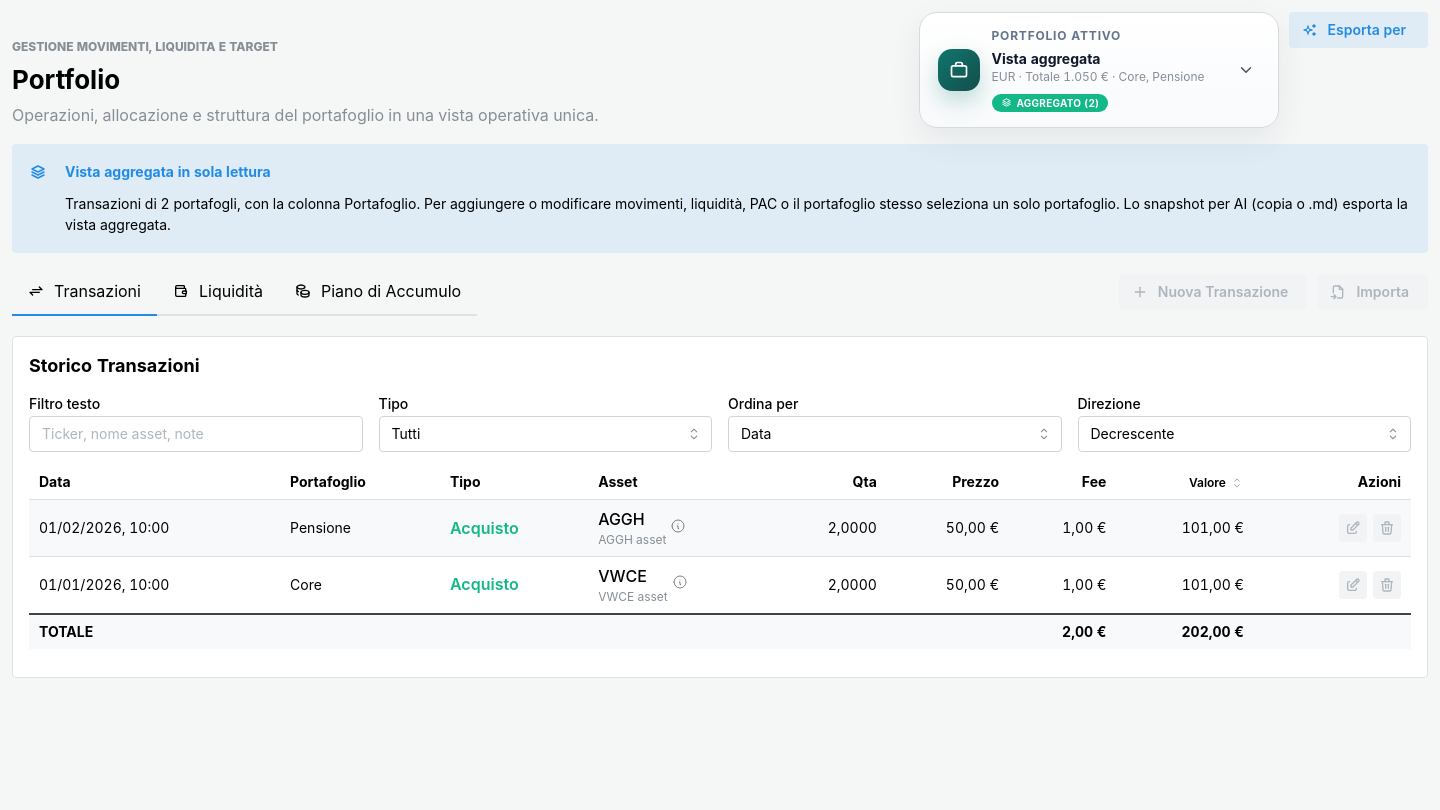
Test: PortfolioPage in the aggregate view (read-only) › replaces the cash and PAC tabs with a notice
Check: the text "VWCE" is shown, box top-left (598, 566), bottom-right (647, 586)
Click the tab "Liquidità": (218, 292) top-left (157, 269), bottom-right (279, 316)
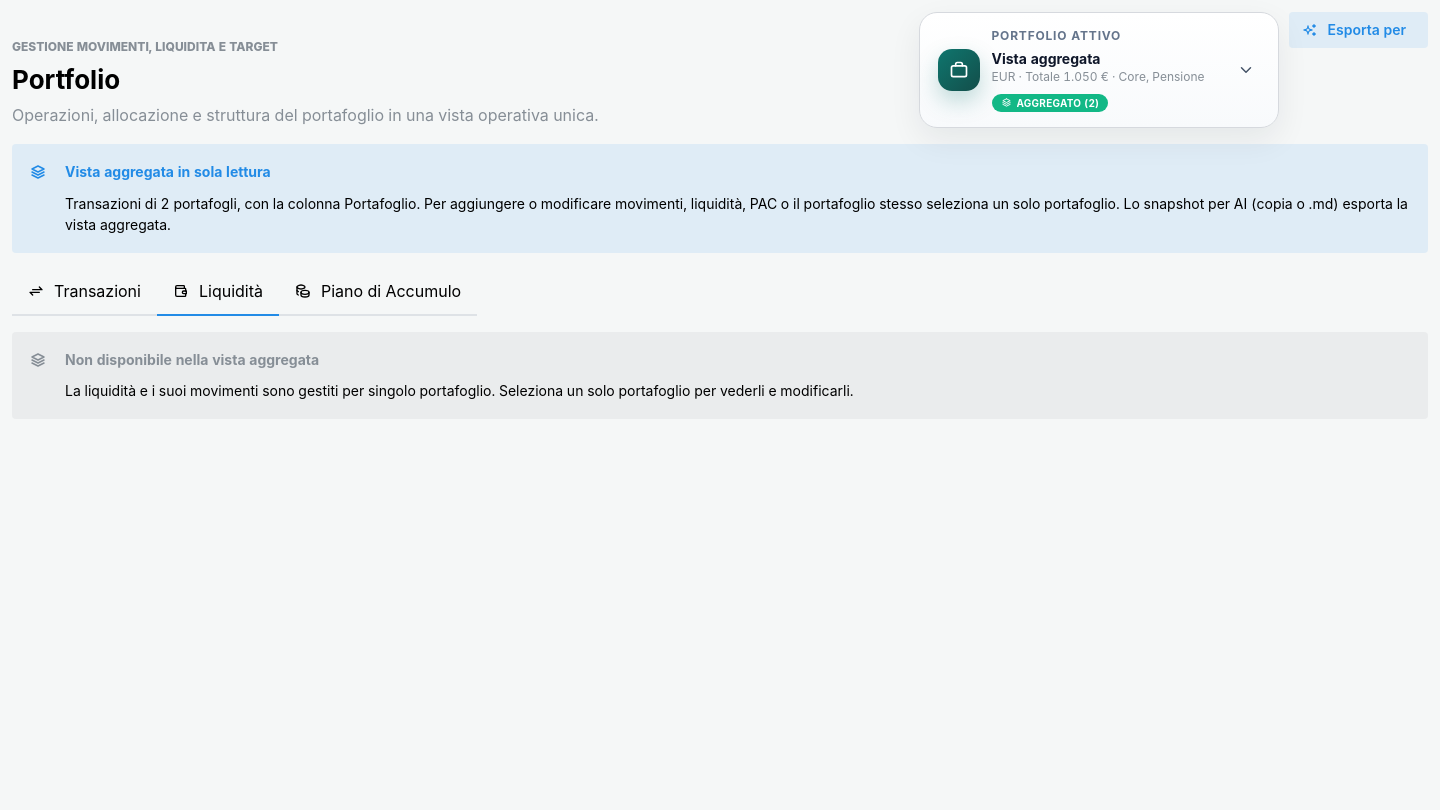
Check: the text "liquidità e i suoi movimenti sono gestiti per singolo portafoglio" is shown, box top-left (65, 382), bottom-right (854, 399)
Check: the text "Non disponibile nella vista aggregata" is shown, box top-left (65, 349), bottom-right (319, 370)
Click the tab "Piano di Accumulo": (378, 292) top-left (279, 269), bottom-right (477, 316)
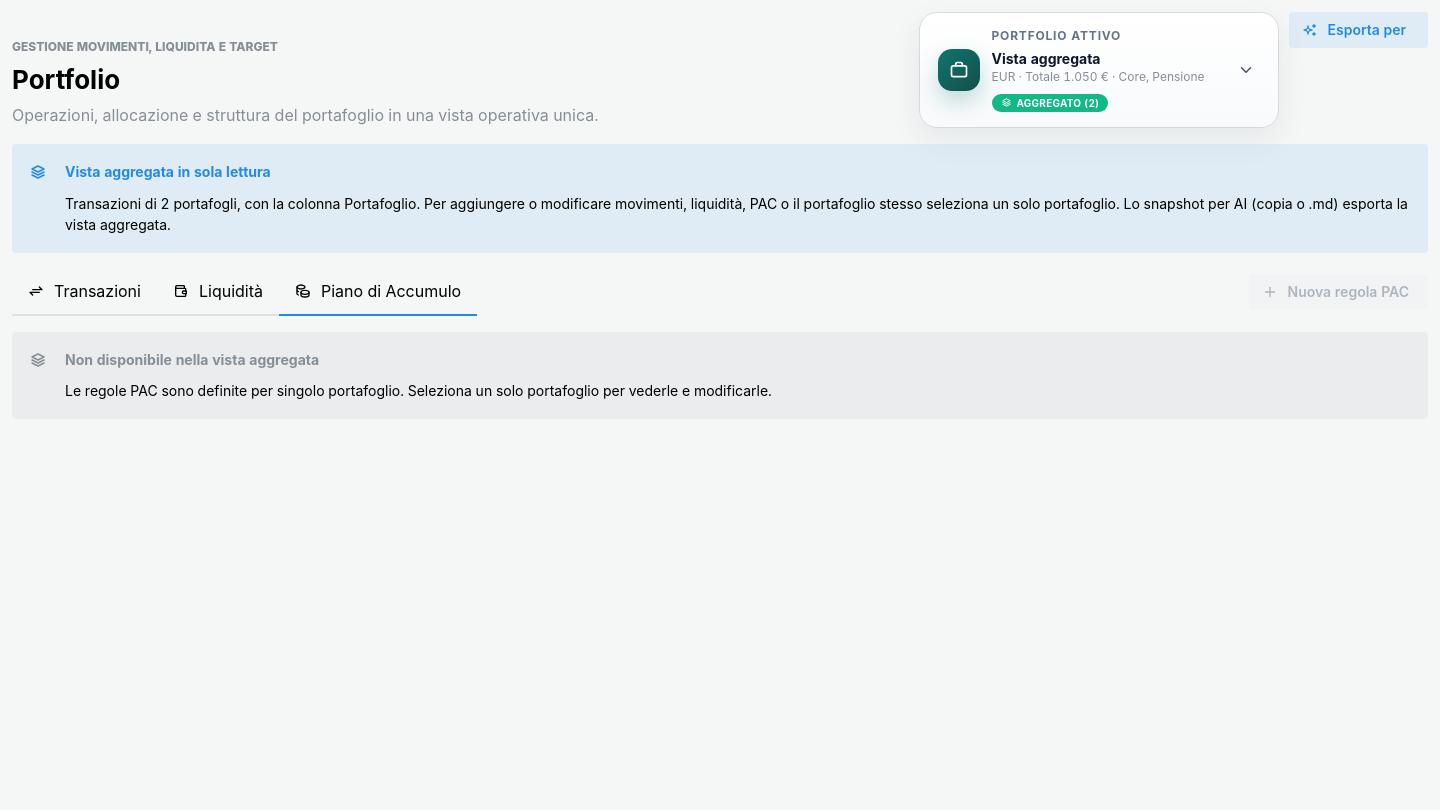
Check: the text "regole PAC sono definite per singolo portafoglio" is shown, box top-left (65, 382), bottom-right (772, 399)
Check: the button "Nuova regola PAC" is disabled, box top-left (1248, 274), bottom-right (1428, 310)
